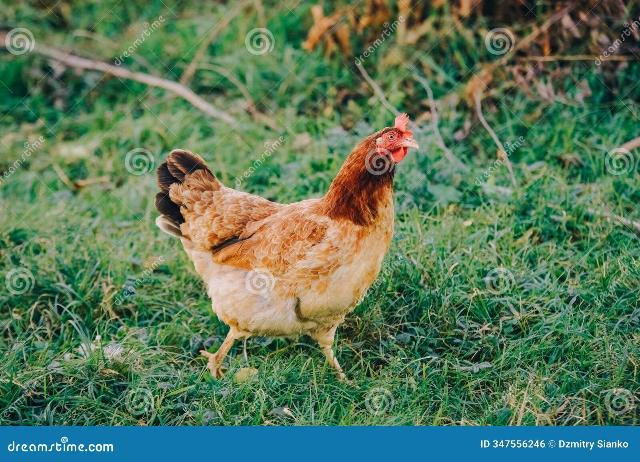Chicken: (155, 114, 422, 383)
